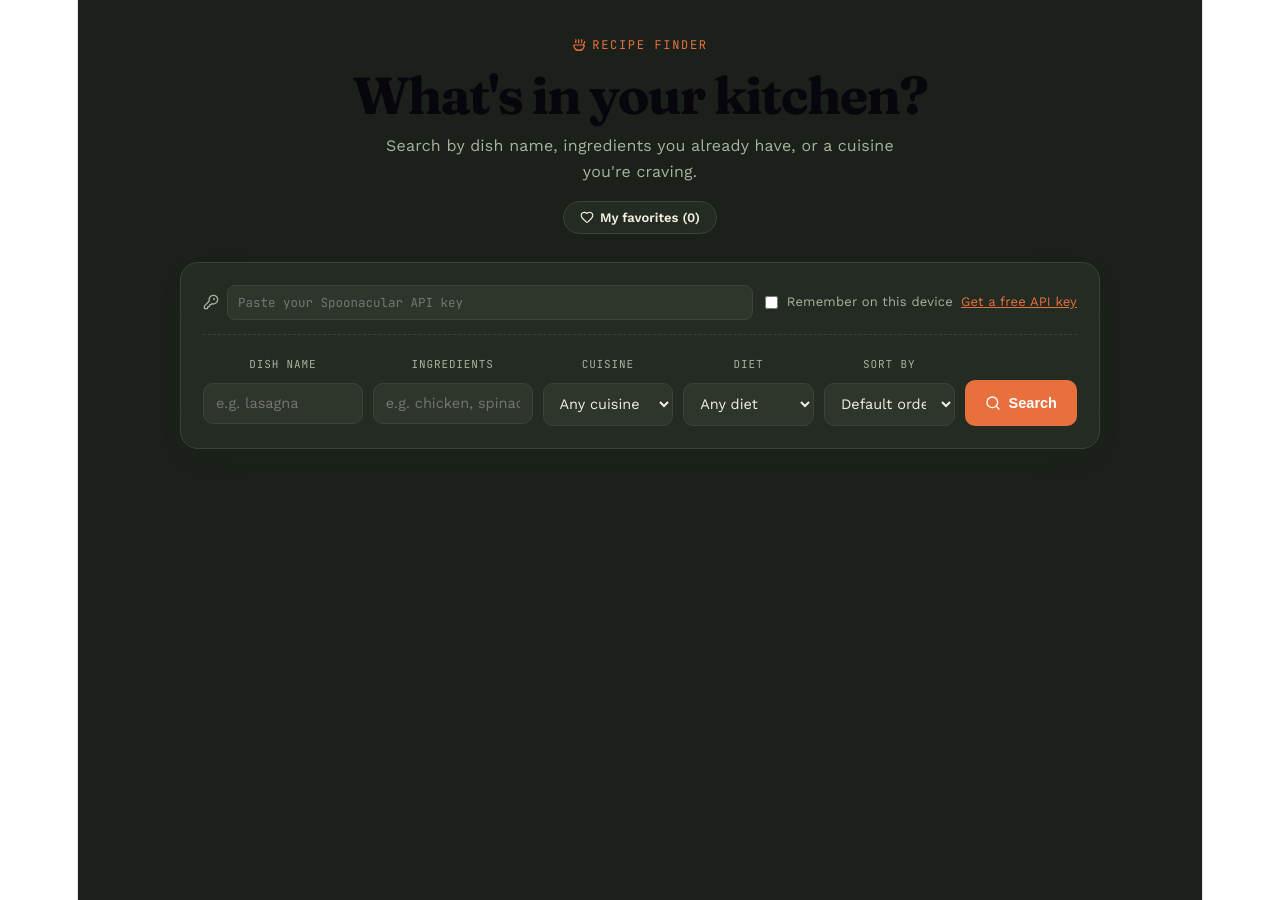
Test case: App (integration) › shows an error and does not search when no api key is provided
The image size is (1280, 900).
In the field labelled "Dish name": (283, 404) [203, 383, 363, 424], type "tacos"
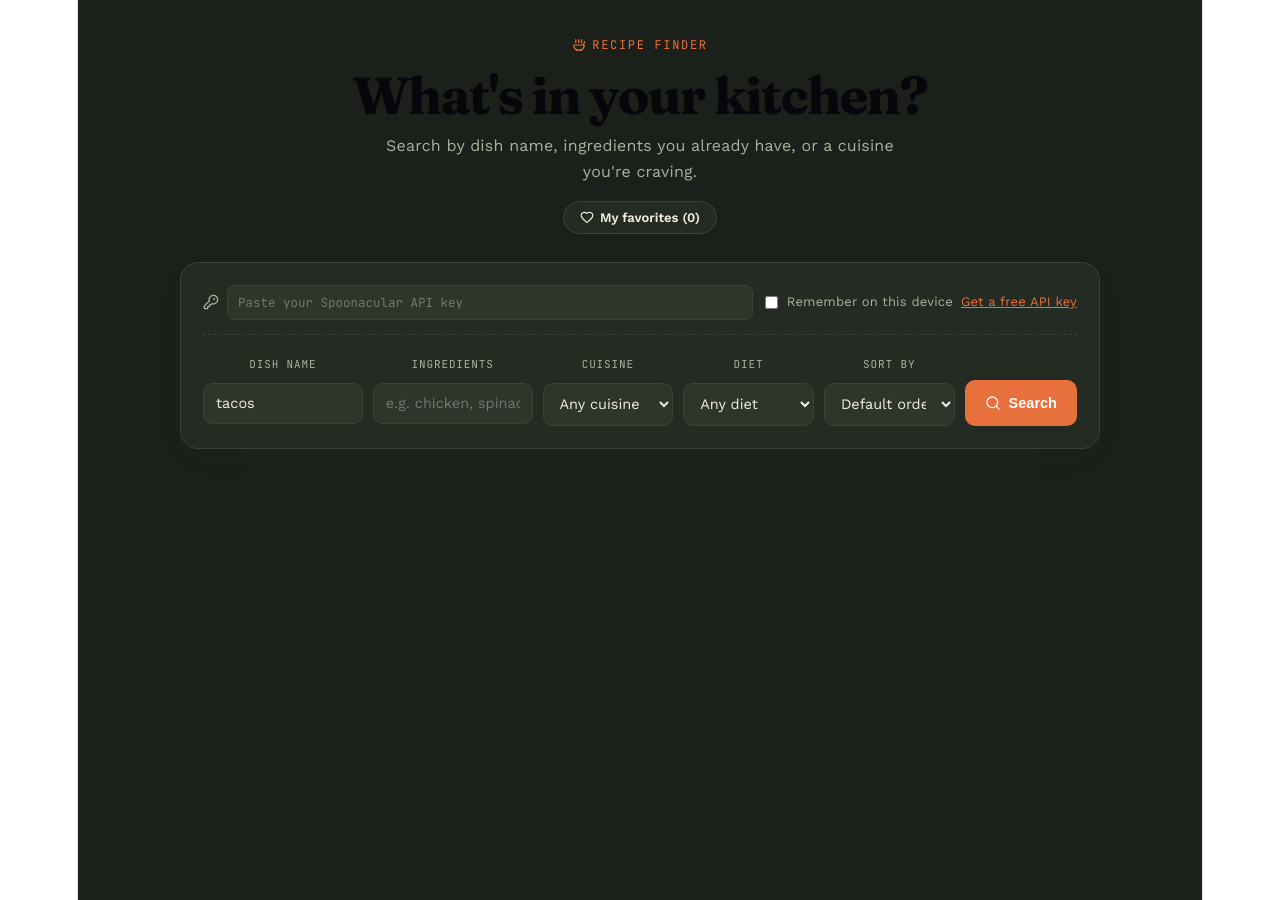
Click the button "Search": (1021, 403) [965, 380, 1077, 426]
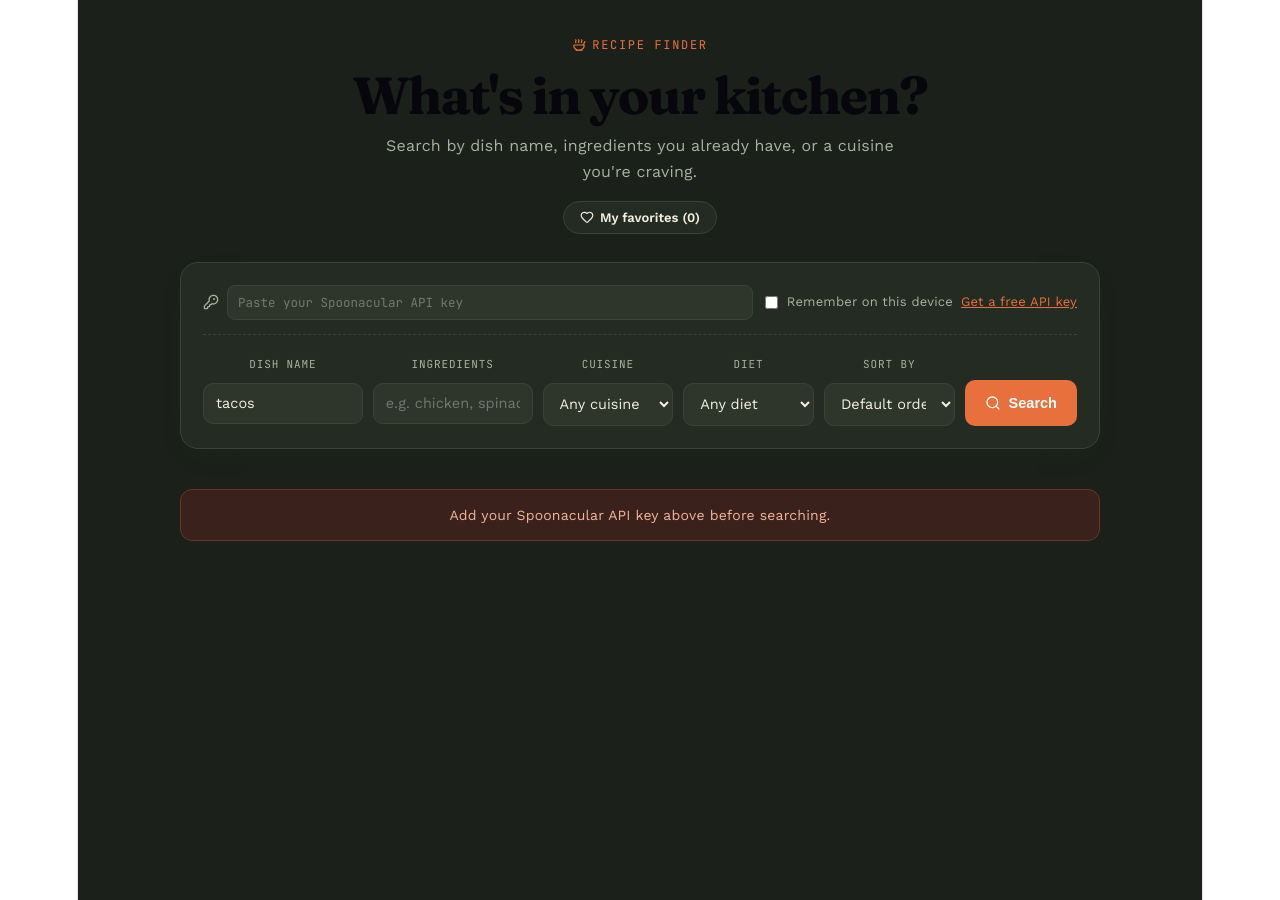
Expected: the text "Add your Spoonacular API key above before searching." is shown, [180, 489, 1100, 541]
